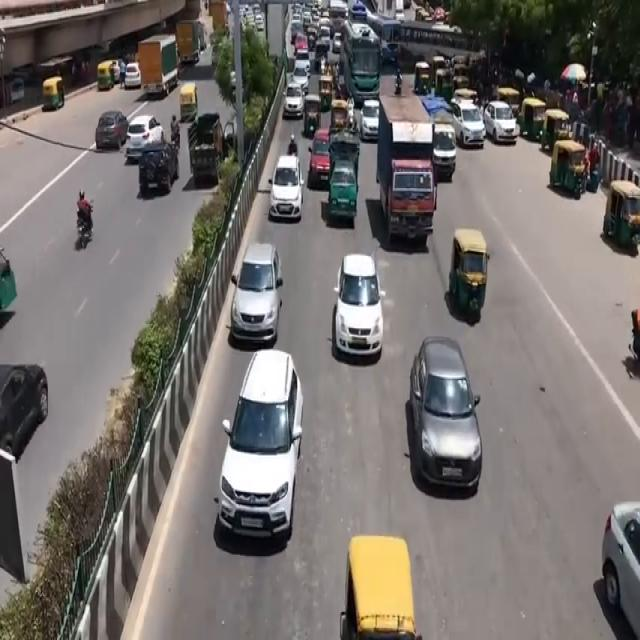BUS: (344, 26, 380, 101)
TRUCK: (378, 100, 437, 254)
